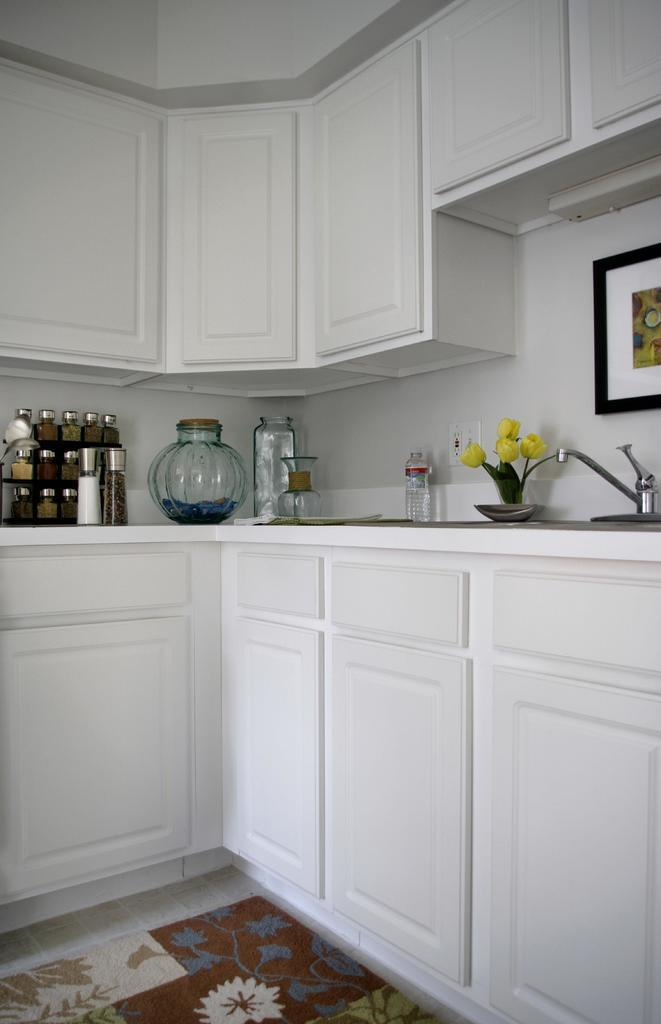cabinet_door: (496, 686, 658, 1012), (333, 651, 470, 970), (4, 77, 156, 353), (16, 642, 185, 836), (161, 136, 297, 358), (314, 115, 420, 327), (233, 636, 318, 854), (434, 20, 562, 148), (586, 30, 661, 111)
